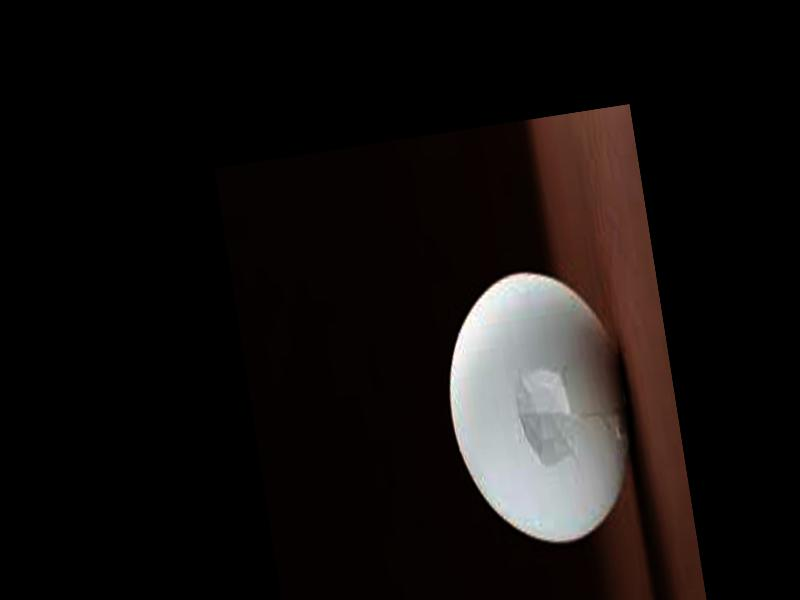Eggs: (431, 259, 647, 553)
